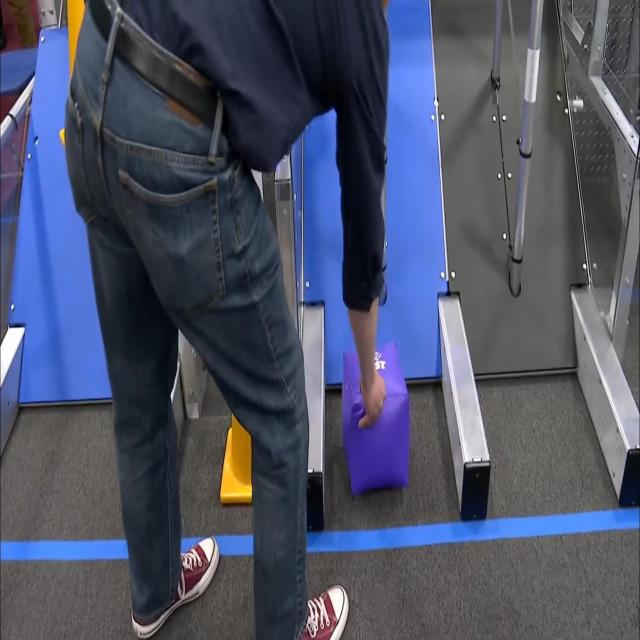frc_cone: (220, 417, 253, 504), (64, 0, 82, 71)
frc_cube: (339, 343, 412, 493)
